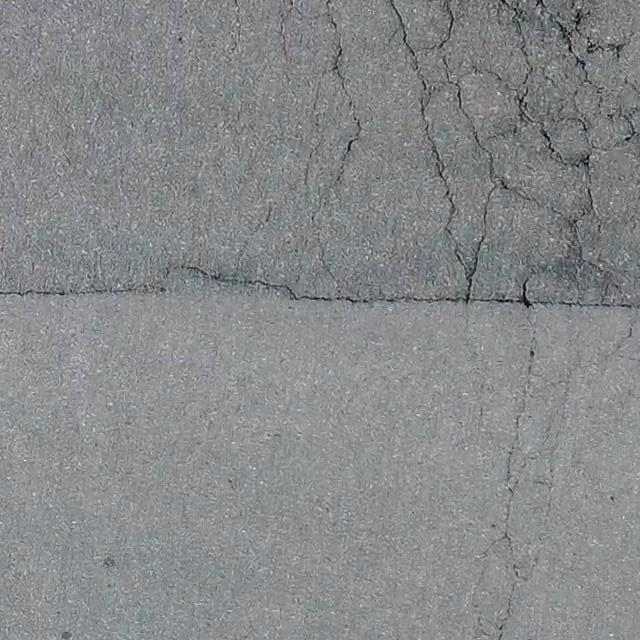GRIETA: (0, 266, 465, 303), (475, 297, 528, 305)
PIEL DE COCODRILO: (232, 0, 639, 308), (455, 319, 639, 639)
